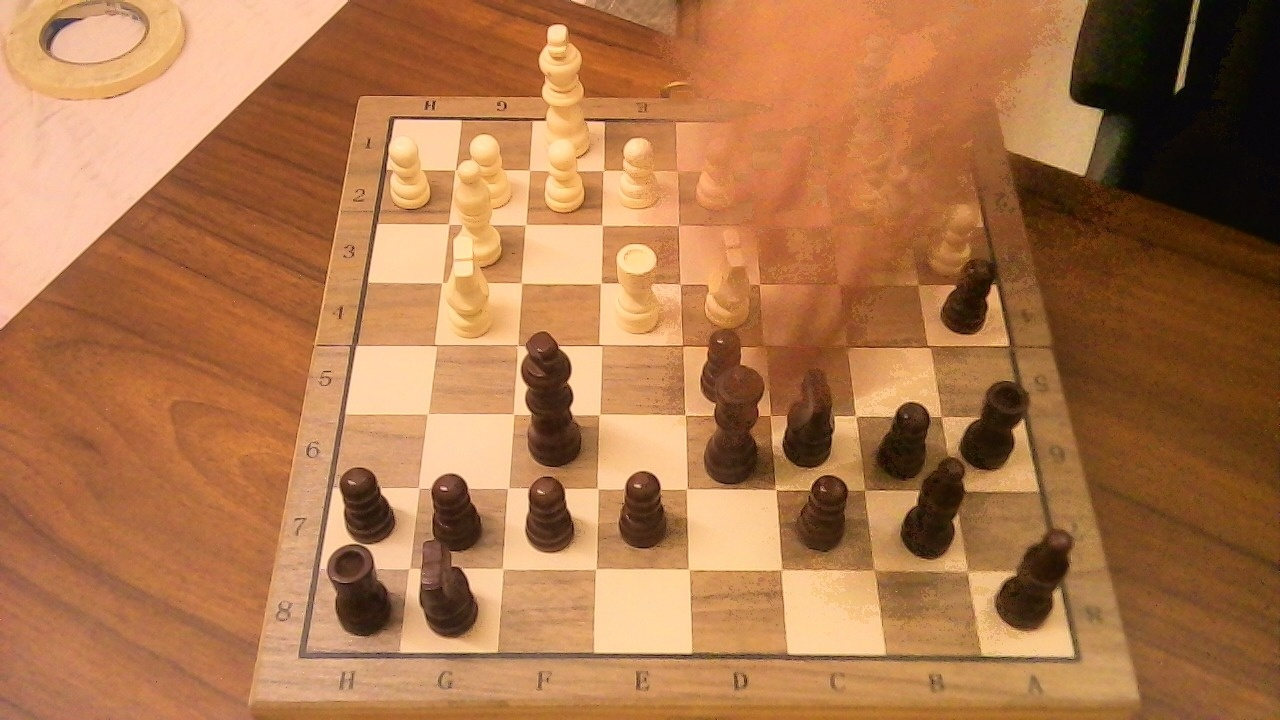B: (448, 148, 513, 271)
K: (533, 13, 597, 161)
N: (692, 251, 759, 331), (440, 257, 500, 342)
P: (458, 126, 518, 213), (535, 129, 592, 217), (610, 128, 666, 214), (382, 129, 437, 211)
R: (606, 233, 668, 339)
b: (992, 517, 1085, 636), (918, 445, 977, 564)
k: (517, 321, 594, 469)
n: (411, 525, 491, 642), (779, 355, 846, 471)
p: (329, 456, 406, 544), (514, 465, 586, 558), (789, 463, 860, 555), (421, 462, 493, 552), (937, 247, 1007, 338), (693, 317, 755, 409), (880, 400, 942, 480), (618, 470, 668, 550)
q: (695, 351, 776, 488)
r: (322, 533, 402, 638), (968, 368, 1037, 472)
